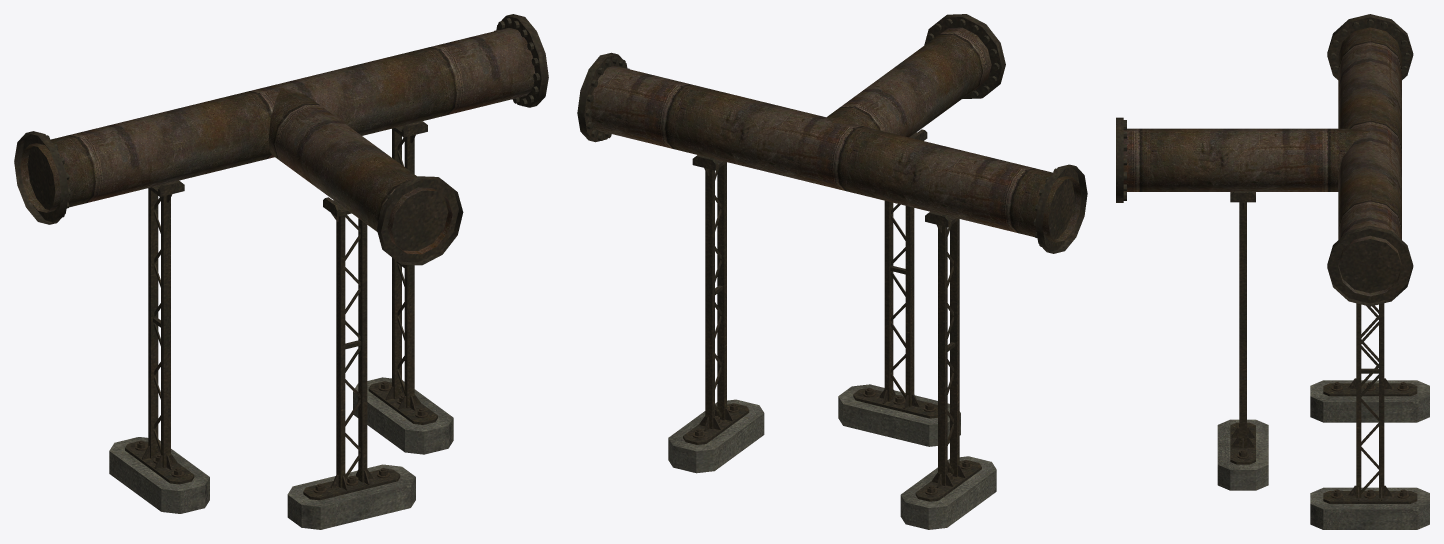
The model's file is pipe_cx_4.obj.
3 views of the same model, side by side, from view 1: azimuth 30°, elevation 25°; view 2: azimuth 150°, elevation 25°; view 3: azimuth 270°, elevation 25° (orthographic). The views are drawn at different scales.
Visible parts, largest first — view 1: pipe_cx_4; view 2: pipe_cx_4; view 3: pipe_cx_4.
Boxes of the visible parts, x1=… form: pipe_cx_4: x1=14, y1=14, x2=548, y2=529; pipe_cx_4: x1=577, y1=14, x2=1087, y2=529; pipe_cx_4: x1=1116, y1=14, x2=1429, y2=529.
Bounding box in the file's own units: 4 × 2.99 × 2.47.
